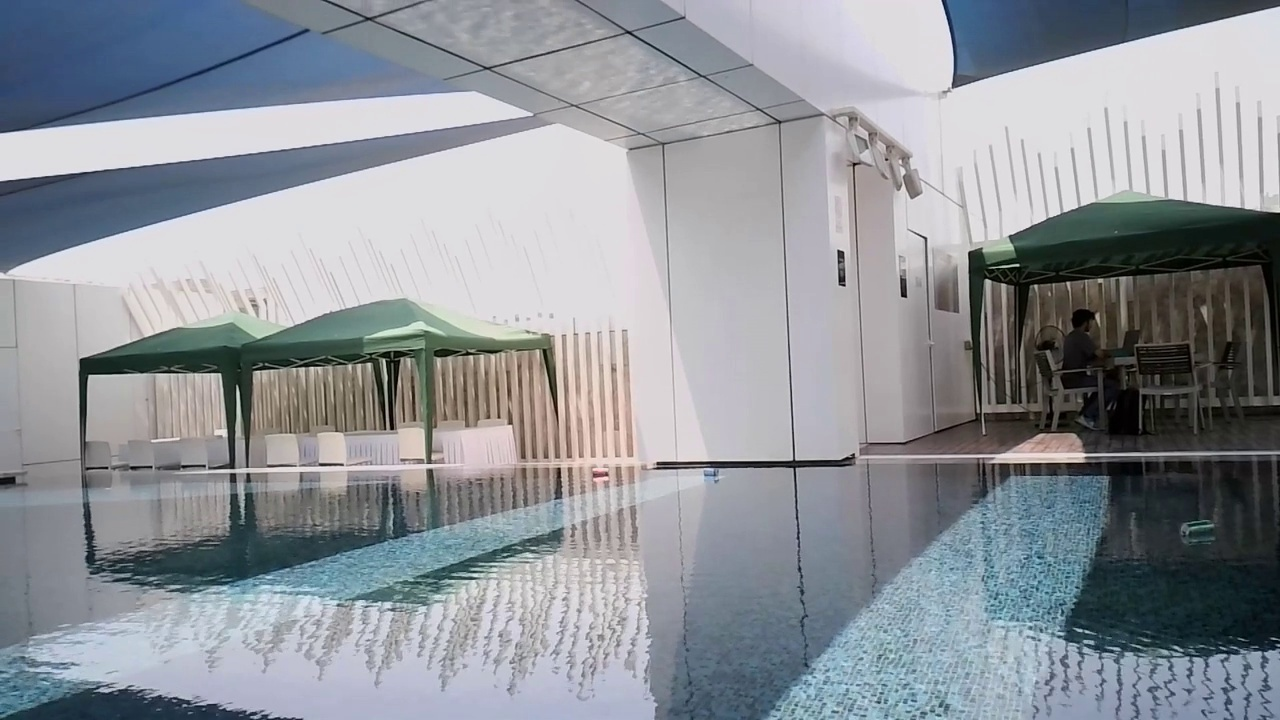debris: (1173, 514, 1221, 548), (698, 461, 722, 482), (588, 466, 614, 484)
